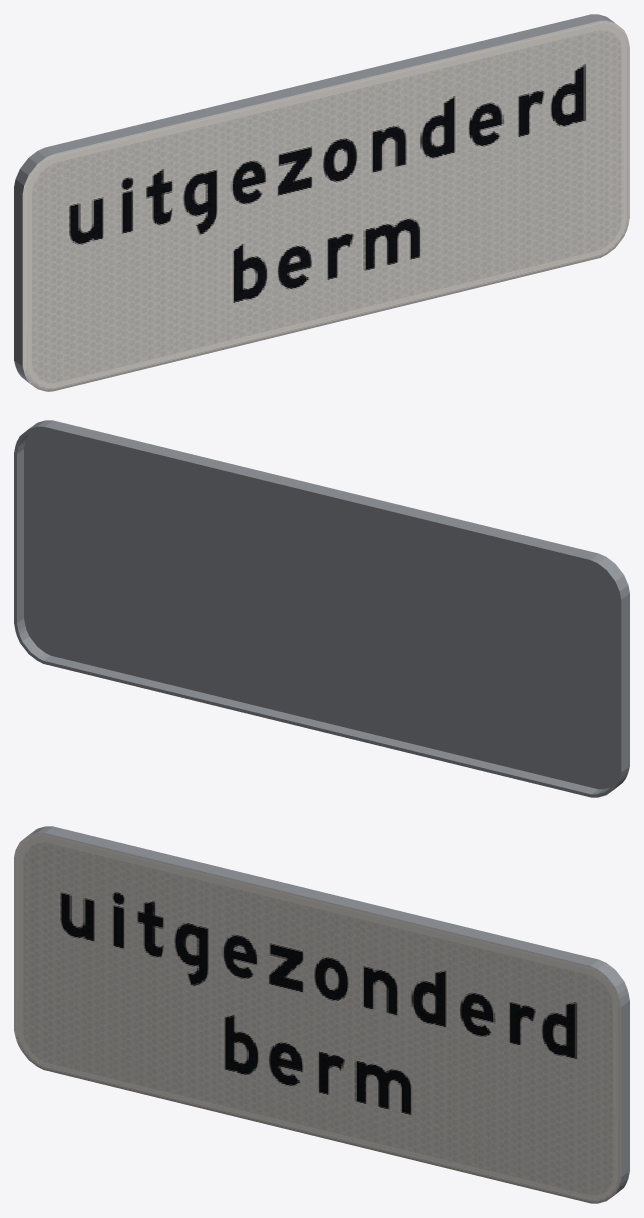
The picture shows the model from 3 angles, top to bottom: view 1: azimuth 30°, elevation 25°; view 2: azimuth 150°, elevation 25°; view 3: azimuth 330°, elevation 25°; orthographic projection.
Parts seen in each view (by area): view 1: cat_805277b10b098b39; view 2: cat_805277b10b098b39; view 3: cat_805277b10b098b39.
Boxes of the visible parts, x1,y1,x2,y2 form: cat_805277b10b098b39: [14, 14, 629, 391]; cat_805277b10b098b39: [14, 420, 629, 797]; cat_805277b10b098b39: [14, 826, 629, 1203].
Size of the model in its own units: 0.6 by 0.015 by 0.2241.
2 materials, 1 textured.
